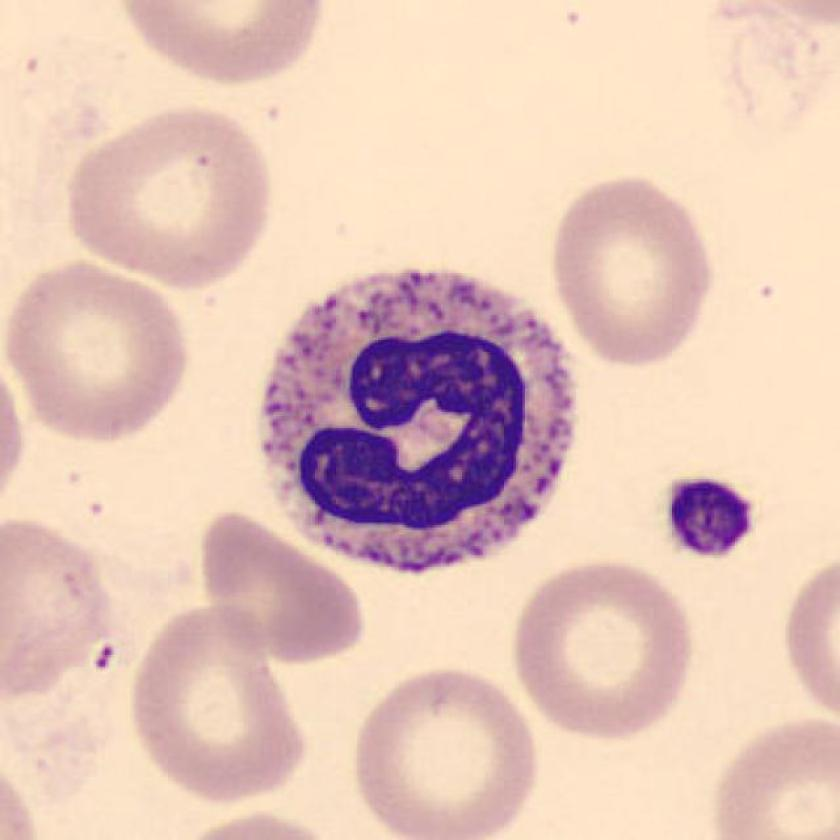neutrophil: (267, 265, 572, 568)
